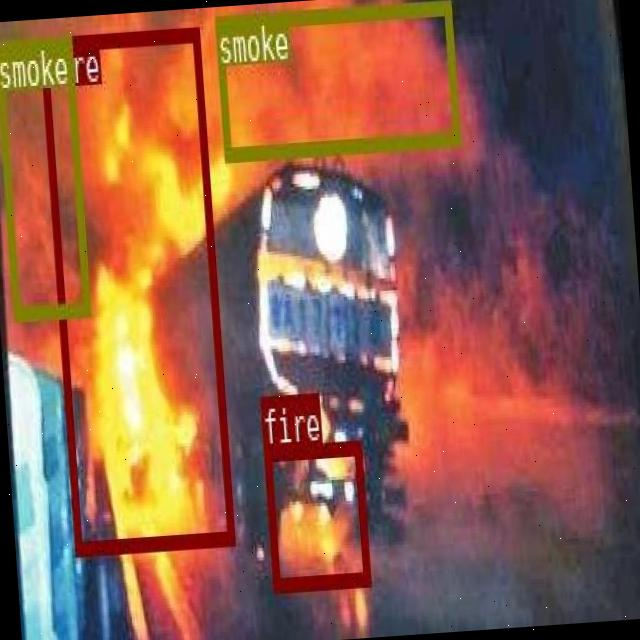fire: (38, 26, 232, 553), (262, 438, 370, 590)
smoke: (213, 0, 458, 158), (0, 32, 87, 317)
